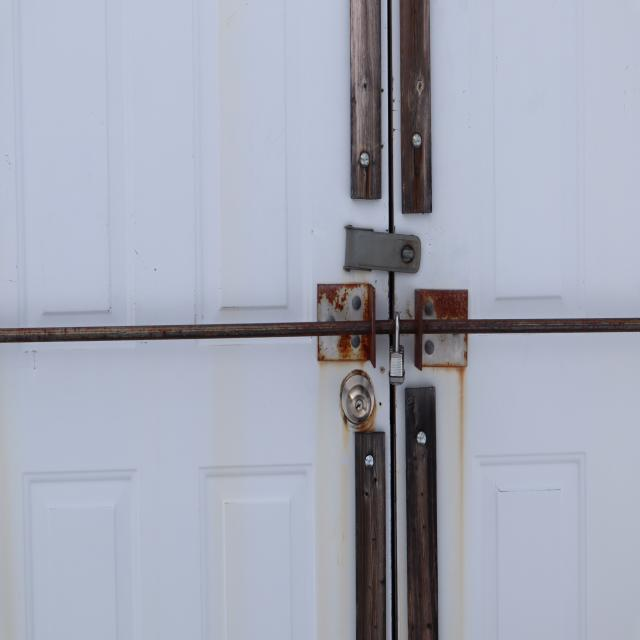door-knob: (341, 373, 374, 426)
